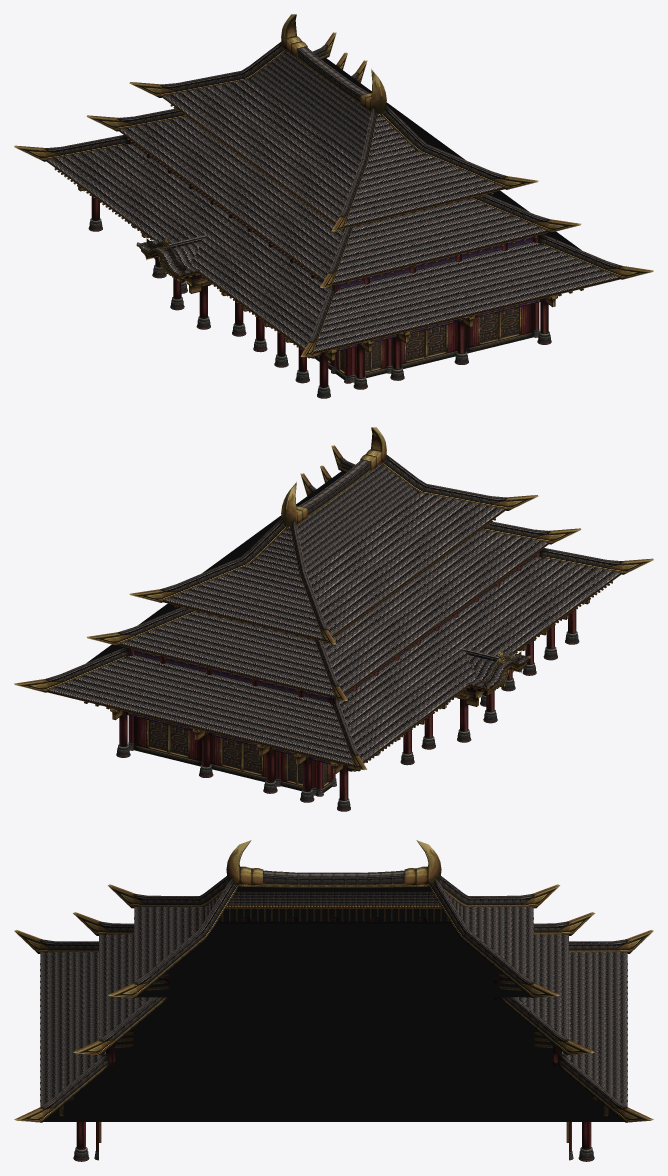
The model's file is EnvBdgMD_Desert_Palace.FBX.
3 views of the same model, one above another, from view 1: azimuth 30°, elevation 25°; view 2: azimuth 150°, elevation 25°; view 3: azimuth 270°, elevation 25° (orthographic). The views are drawn at different scales.
Visible parts, largest first — view 1: EnvBdgMD_Desert_Palace; view 2: EnvBdgMD_Desert_Palace; view 3: EnvBdgMD_Desert_Palace.
Boxes of the visible parts, x1,y1,x2,y2 form: EnvBdgMD_Desert_Palace: (14,14,653,398); EnvBdgMD_Desert_Palace: (14,427,653,811); EnvBdgMD_Desert_Palace: (14,840,653,1161).
Bounding box in the file's own units: 3848 × 2500 × 5447.
